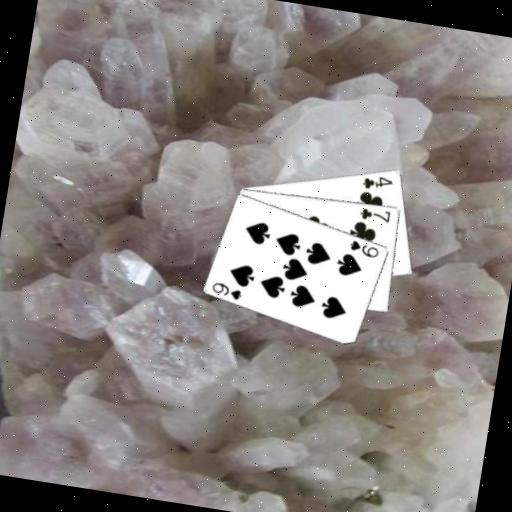4C: (359, 170, 395, 194)
7C: (356, 203, 392, 224)
9S: (208, 277, 245, 301), (345, 236, 381, 260)
